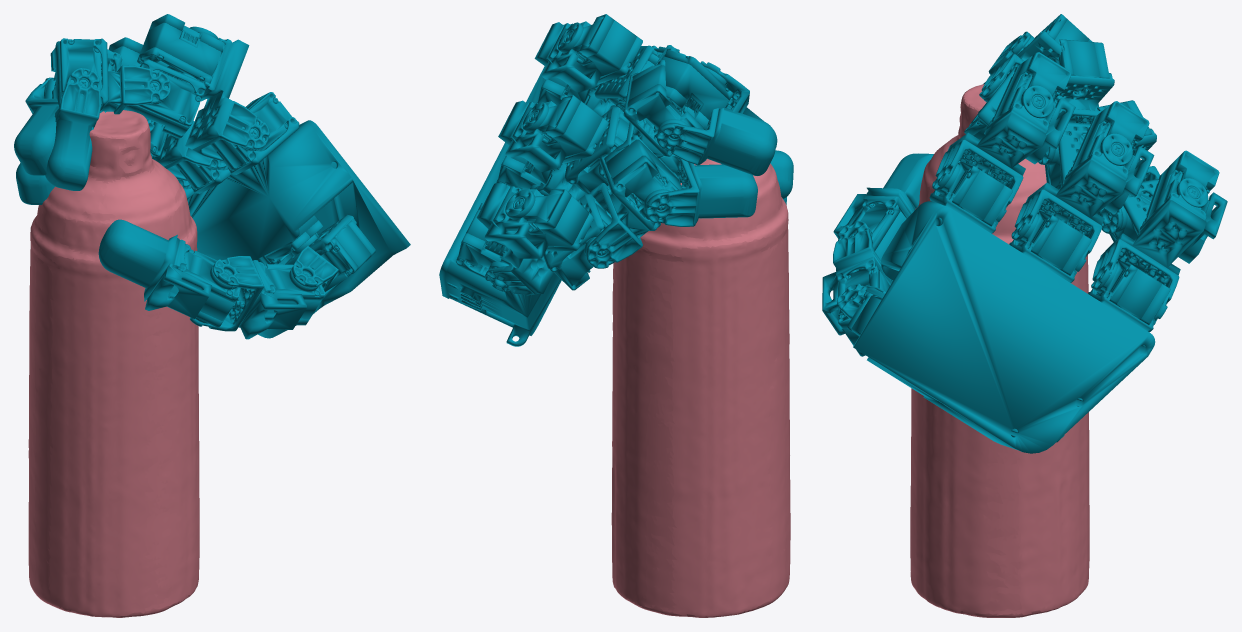
The picture shows the model from 3 angles, left to right: view 1: azimuth 30°, elevation 25°; view 2: azimuth 150°, elevation 25°; view 3: azimuth 270°, elevation 25°; orthographic projection. The views are drawn at different scales.
Visible parts, largest first — view 1: world; view 2: world; view 3: world.
Part boxes in pixels (x1=…): world: x1=14, y1=14, x2=410, y2=617; world: x1=439, y1=14, x2=793, y2=617; world: x1=822, y1=14, x2=1227, y2=617.
Size of the model in its own units: 0.1788 by 0.2964 by 0.1909.
